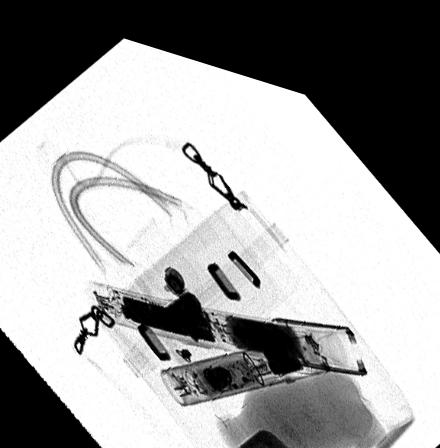Baton: (90, 276, 370, 354), (159, 314, 329, 397)
